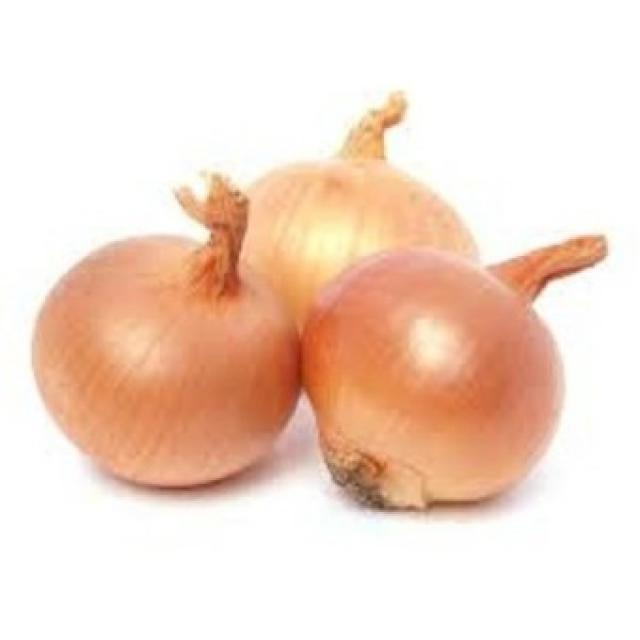onion: (298, 236, 606, 514), (31, 177, 302, 490), (239, 155, 482, 341)
